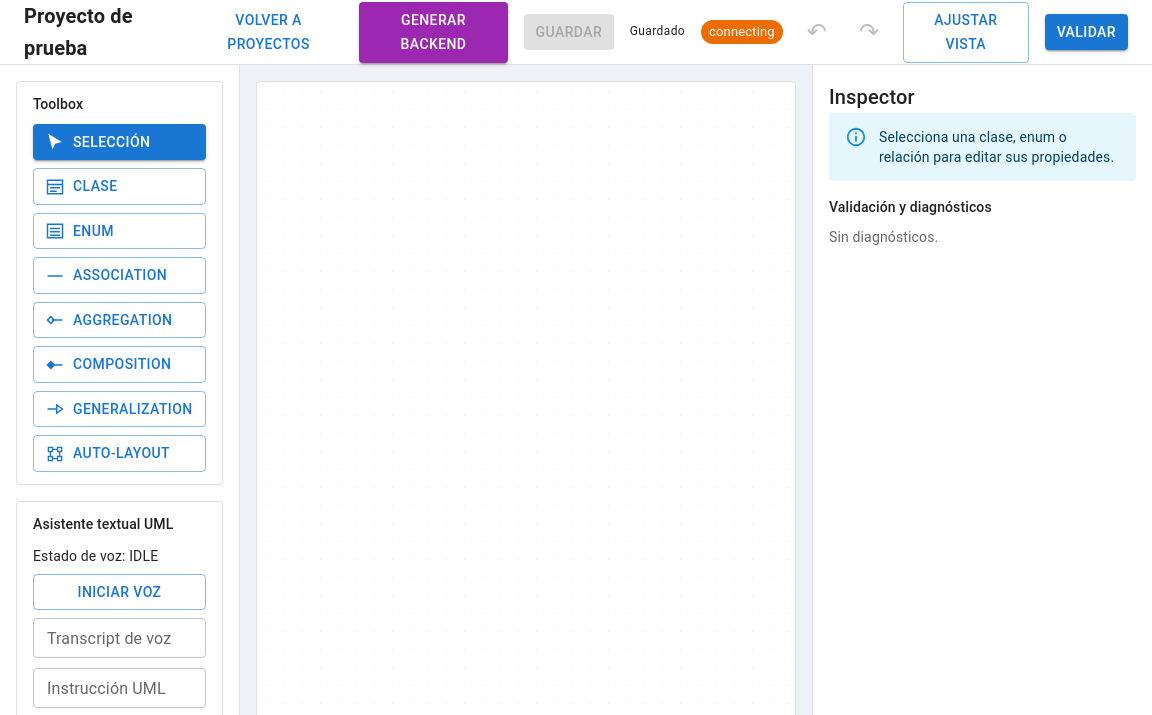
Test: ruta de workspace persistido › muestra un error controlado y no descarga ante HTTP 400
The image size is (1152, 715).
Click the button "Generar backend": point(434, 32) x1=359 y1=2 x2=508 y2=62
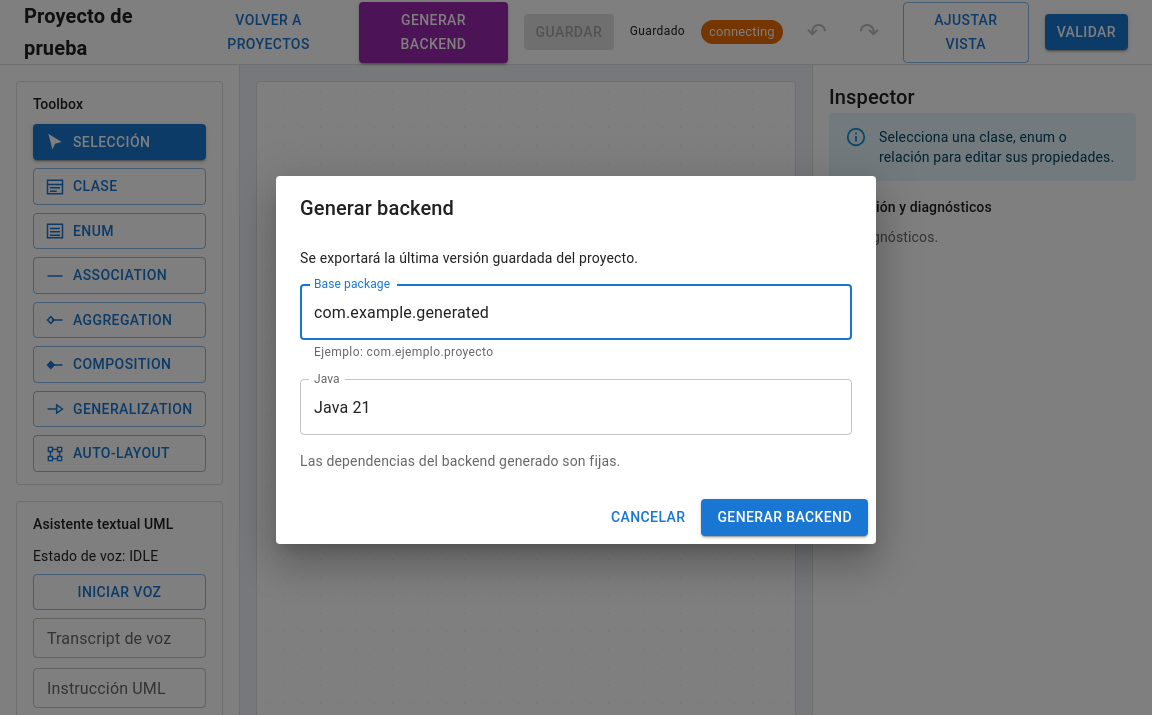
Click the button "Generar backend": point(785, 517) x1=701 y1=499 x2=868 y2=536
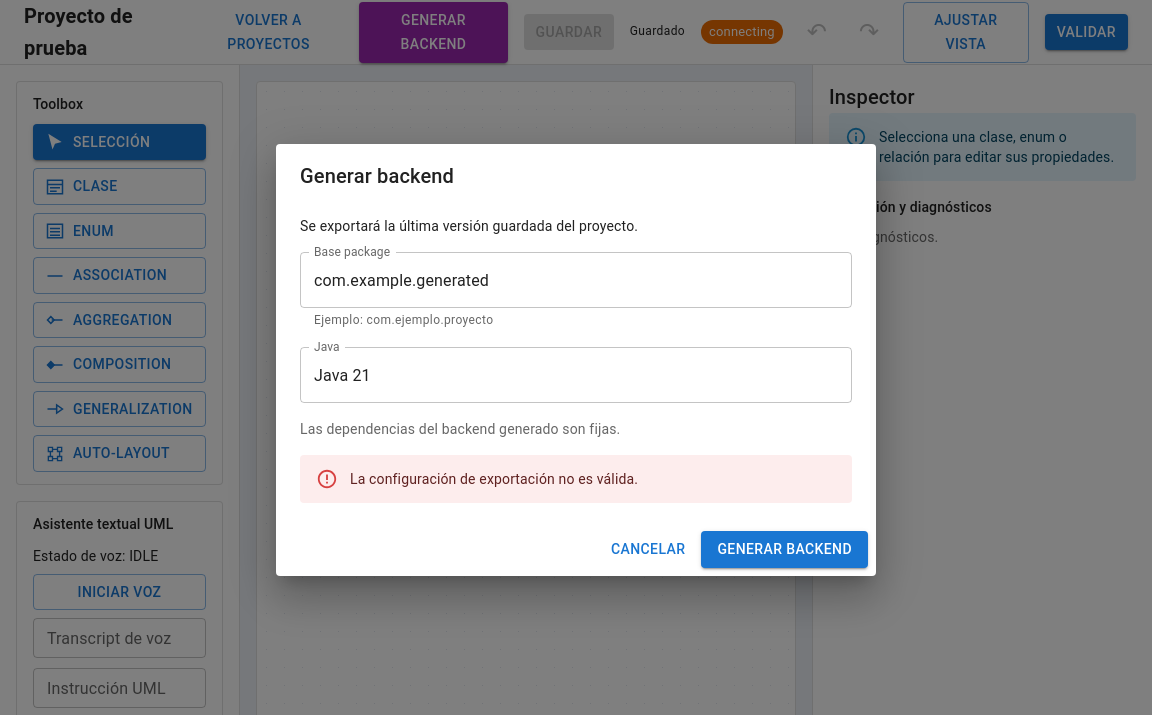
Check: the button "Generar backend" is enabled, box x1=701 y1=531 x2=868 y2=568
Check: the message "La configuración de exportación no es válida." is shown, box x1=300 y1=455 x2=852 y2=503
